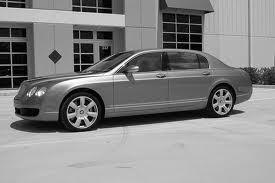car: (10, 48, 257, 133)
